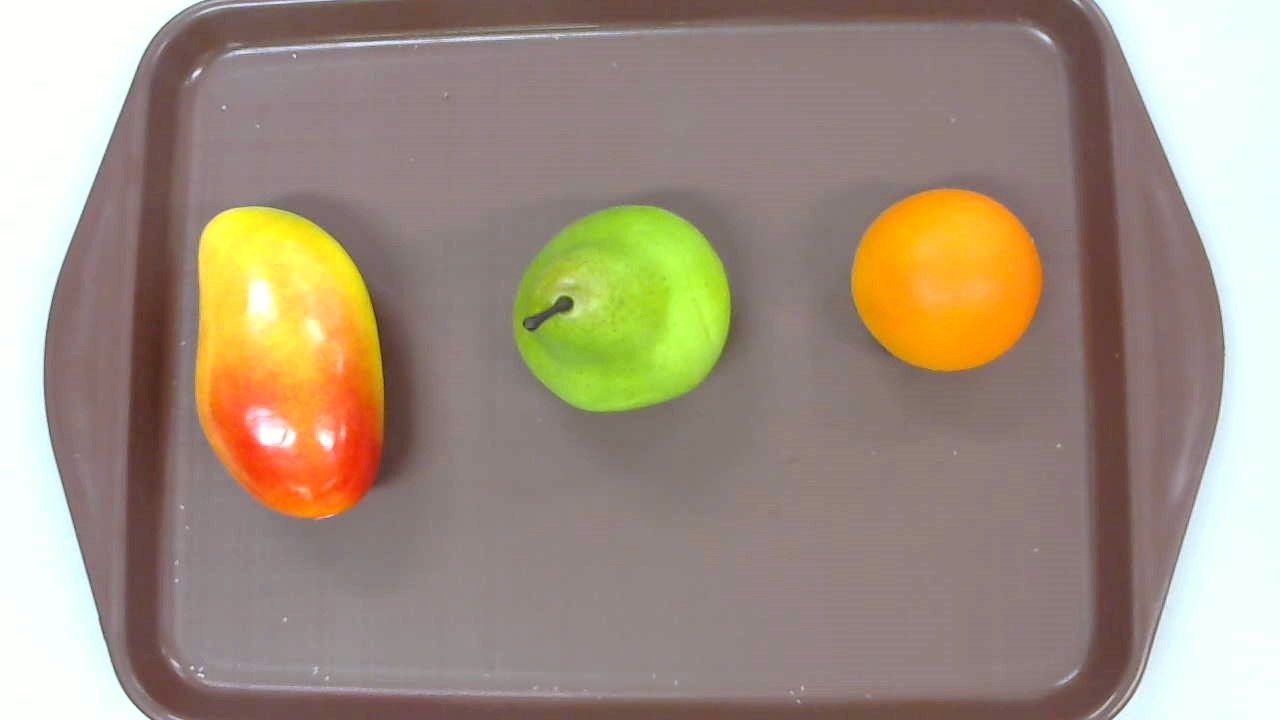bun: (850, 187, 1043, 373)
green pear: (511, 203, 731, 414)
red mango: (194, 206, 384, 520)
